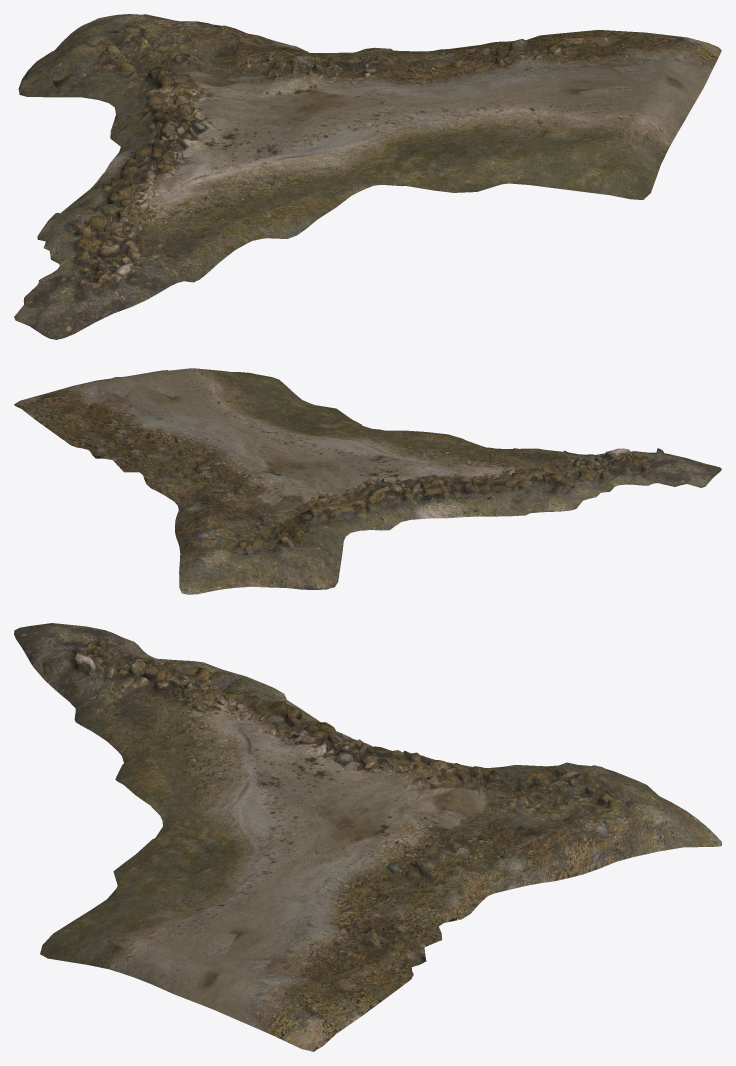
The model's file is coast_rocks_01_Far.fbx.
3 renders of one model, top to bottom at view 1: azimuth 30°, elevation 25°; view 2: azimuth 150°, elevation 25°; view 3: azimuth 270°, elevation 25°, orthographic. The views are drawn at different scales.
Parts seen in each view (by area): view 1: coast_rocks_01_Far; view 2: coast_rocks_01_Far; view 3: coast_rocks_01_Far.
Boxes of the visible parts, x1,y1,x2,y2 form: coast_rocks_01_Far: (14,14,721,339); coast_rocks_01_Far: (14,368,721,594); coast_rocks_01_Far: (14,623,721,1051).
Bounding box in the file's own units: 59.51 × 3.29 × 42.53.
